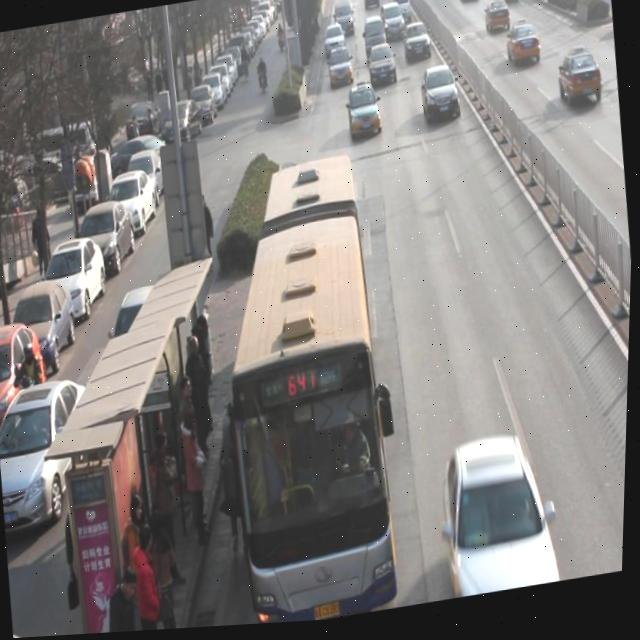car: (439, 436, 566, 605), (554, 49, 605, 117), (418, 68, 463, 131), (343, 83, 384, 143), (503, 23, 542, 73), (366, 46, 398, 93), (401, 24, 433, 70), (326, 48, 354, 91), (481, 1, 511, 40), (378, 6, 405, 46), (332, 4, 355, 40), (322, 25, 346, 57), (492, 0, 520, 8)
truck: (362, 19, 389, 64), (390, 0, 412, 27)
van: (205, 152, 413, 630)
